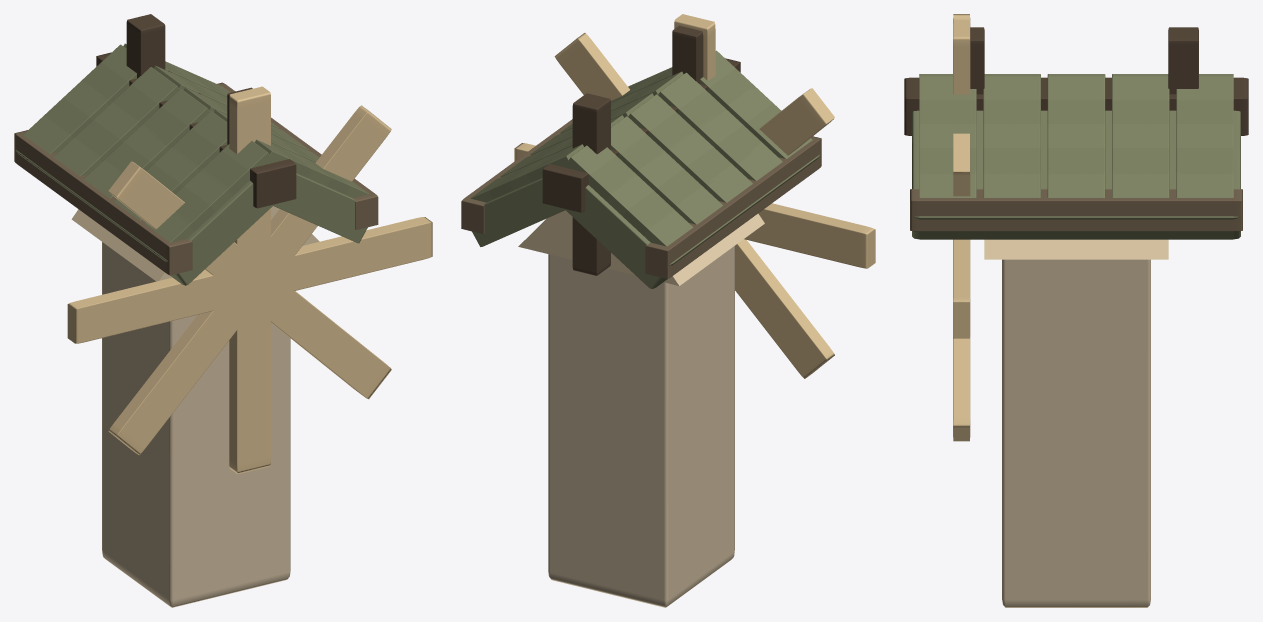
Rendered from windmill-0.glb.
3 views of the same model, side by side, from view 1: azimuth 30°, elevation 25°; view 2: azimuth 150°, elevation 25°; view 3: azimuth 270°, elevation 25° (orthographic). The views are drawn at different scales.
Visible parts, largest first — view 1: windmill-0-0; view 2: windmill-0-0; view 3: windmill-0-0.
Part boxes in pixels (x1,y1,x2,y2): windmill-0-0: (14, 14, 432, 607); windmill-0-0: (461, 14, 875, 607); windmill-0-0: (904, 14, 1248, 607).
Size of the model in its own units: 1.15 by 1.59 by 0.9.
